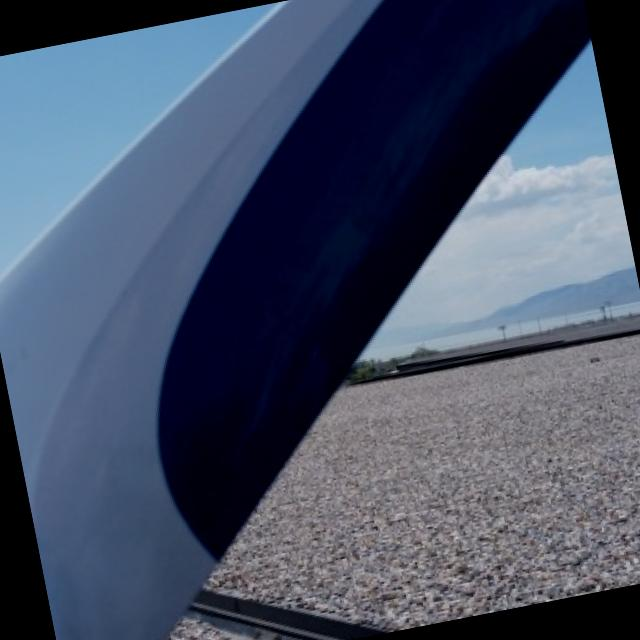healthy: (0, 0, 589, 640)
